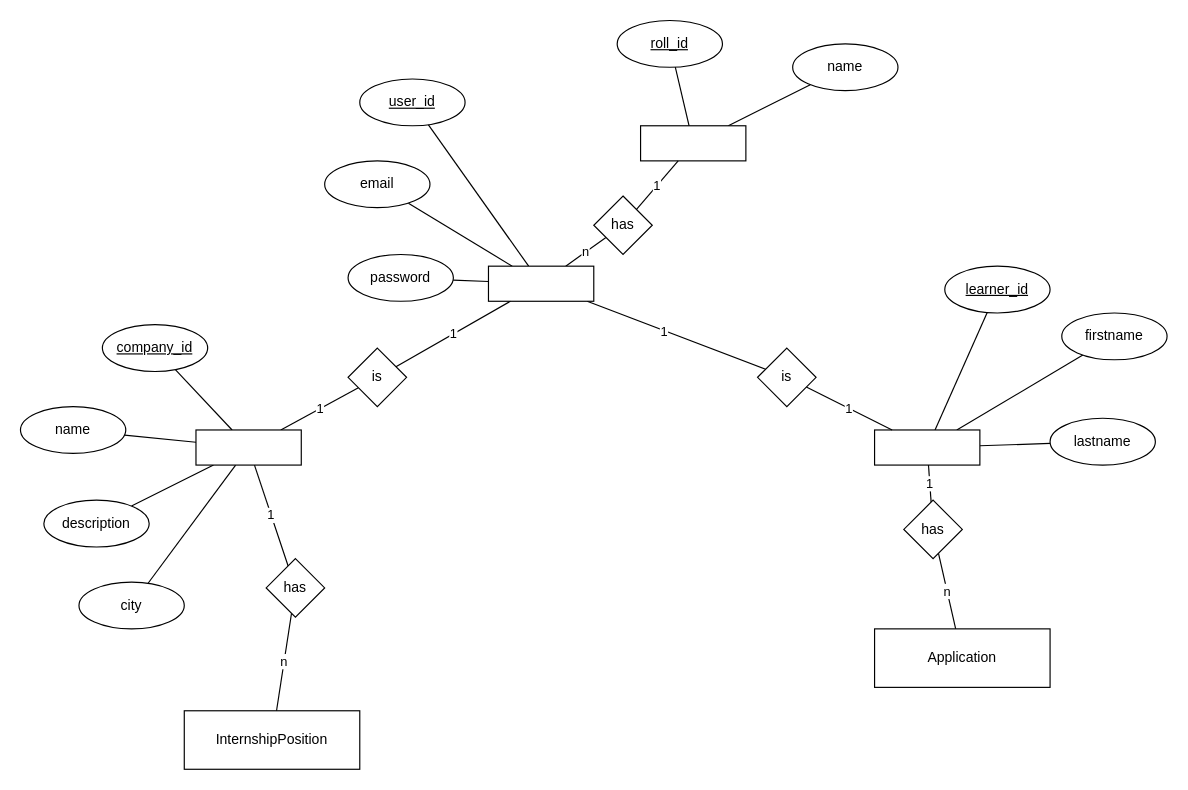
The diagram is 1188 pixels wide and 790 high, and some of its shapes have lost their labels. The centre of each missing label's shape, as x and y in pixels:
"Company" belongs at (248,447).
"Learner" belongs at (926,447).
"Role" belongs at (692,143).
"User" belongs at (540,283).
